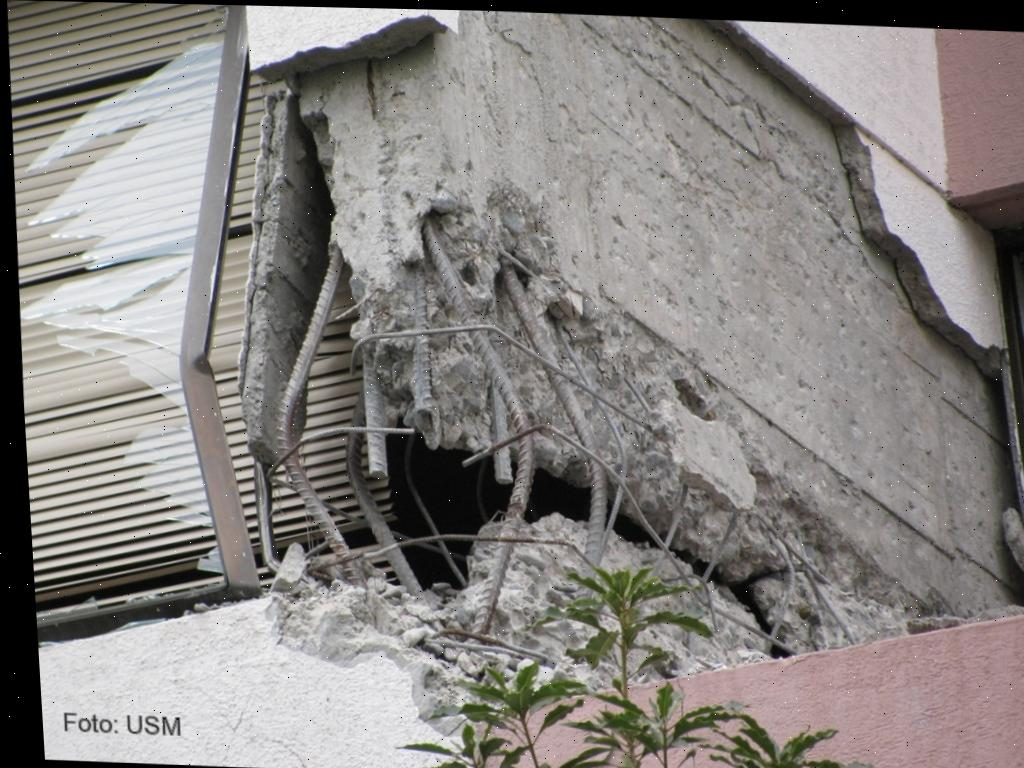exposed_rebar: (462, 424, 691, 584), (351, 324, 652, 431), (277, 246, 365, 586), (470, 329, 536, 537), (310, 533, 588, 571), (422, 216, 478, 326), (500, 258, 557, 364), (548, 370, 599, 455), (472, 542, 513, 633), (362, 347, 388, 479), (411, 335, 439, 446), (769, 530, 795, 637), (595, 398, 627, 478), (702, 513, 739, 581), (585, 459, 607, 563), (295, 426, 414, 445), (557, 320, 590, 385), (598, 487, 623, 563), (663, 483, 689, 545), (412, 265, 426, 328), (652, 552, 664, 574)
spalling: (270, 180, 960, 707)
